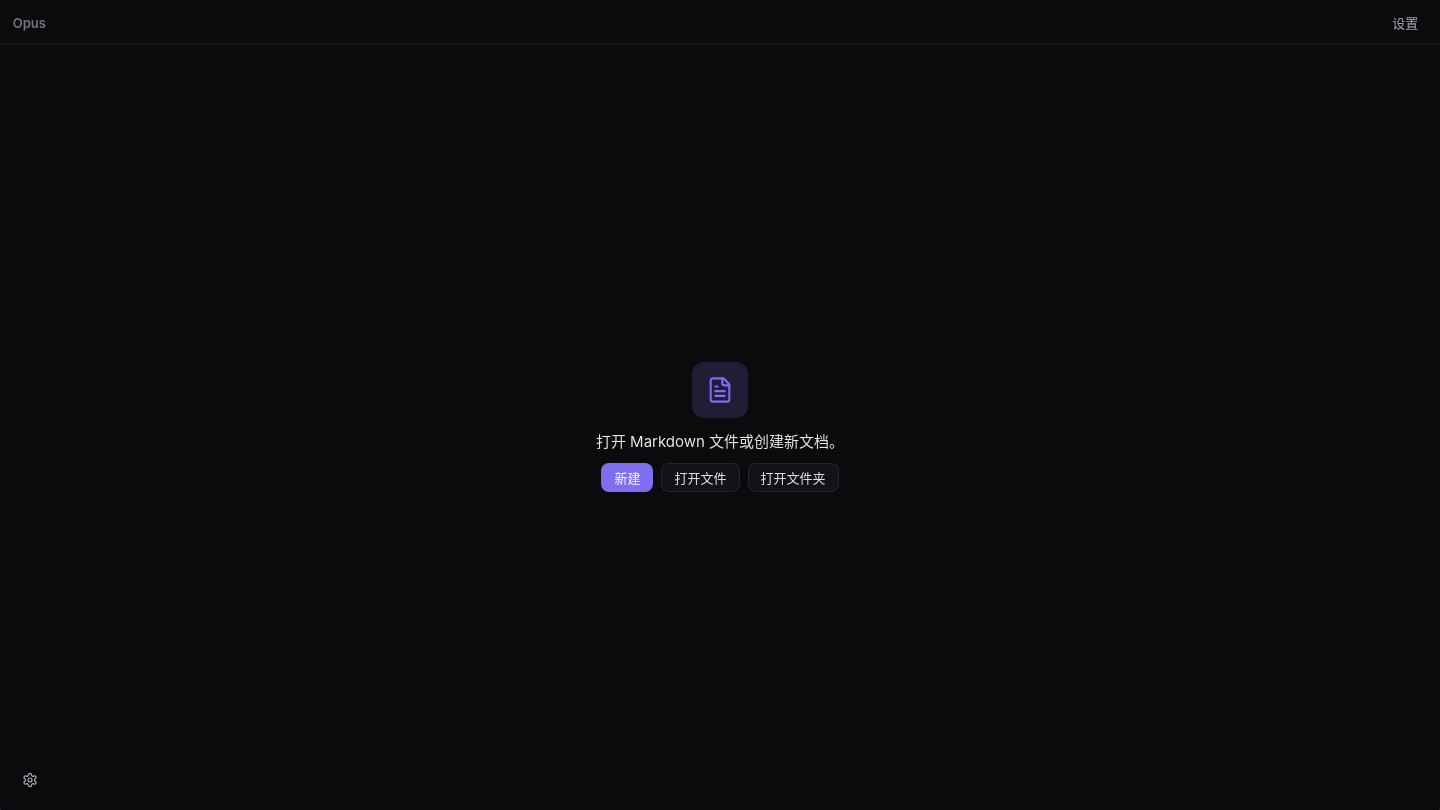
accessibility: roles and names › exposes tabs with names, selection state and a labelled panel
Click the button "打开文件": coordinates (700, 478) [662,463,740,492]
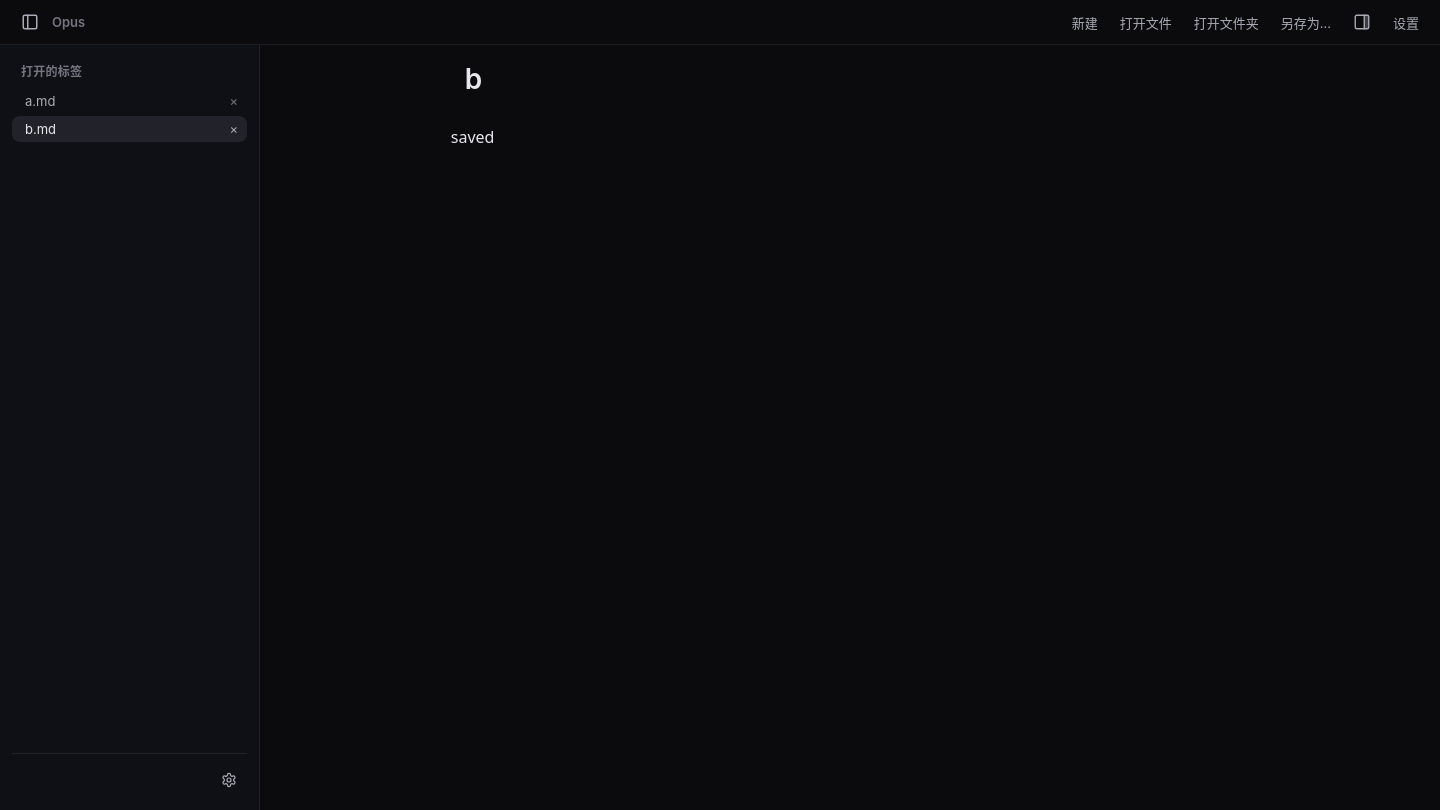
Expected: the number of tabs is 2, [12,88,221,114]; [12,116,221,142]
Expected: the tab "b.md" is shown, [12,116,221,142]
